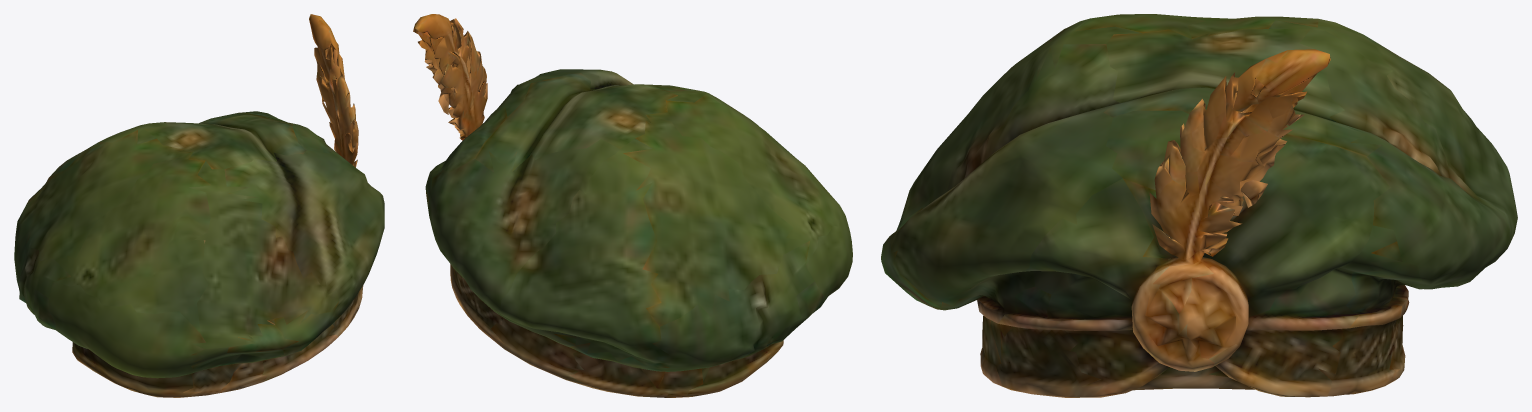
The model's file is hat_beret.glb.
3 renders of one model, left to right at view 1: azimuth 30°, elevation 25°; view 2: azimuth 150°, elevation 25°; view 3: azimuth 270°, elevation 25°, orthographic. The views are drawn at different scales.
Parts seen in each view (by area): view 1: tripo_node_edcfd374-224e-4f2c-b332-73970a44882e; view 2: tripo_node_edcfd374-224e-4f2c-b332-73970a44882e; view 3: tripo_node_edcfd374-224e-4f2c-b332-73970a44882e.
Part boxes in pixels (<box>): tripo_node_edcfd374-224e-4f2c-b332-73970a44882e: <box>14,14,384,397</box>; tripo_node_edcfd374-224e-4f2c-b332-73970a44882e: <box>413,14,852,397</box>; tripo_node_edcfd374-224e-4f2c-b332-73970a44882e: <box>881,14,1517,397</box>.
Size of the model in its own units: 1.23 by 1 by 1.29.
1 material, 1 textured.
